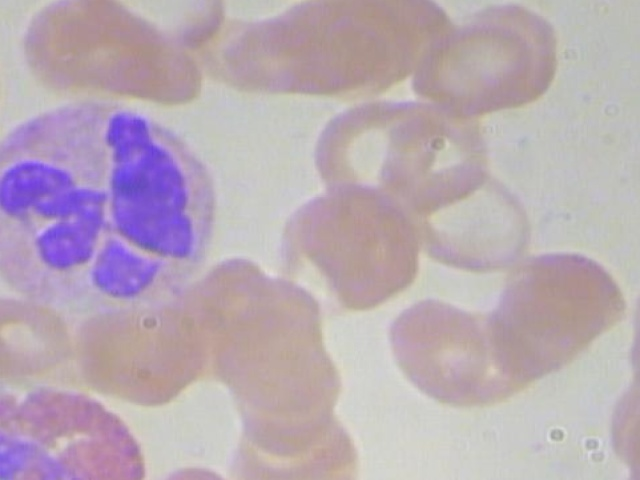RBC: (281, 173, 437, 320), (398, 158, 543, 277), (64, 296, 216, 409), (371, 291, 505, 405), (398, 13, 535, 115), (72, 0, 239, 63), (0, 287, 78, 382)
WBC: (0, 91, 237, 312), (0, 383, 160, 480)
